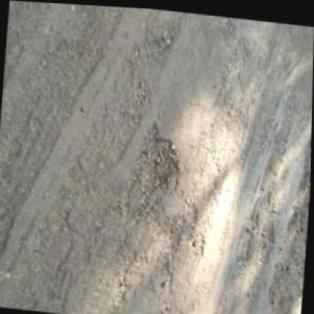Hueco: (130, 118, 183, 196), (241, 208, 260, 252), (260, 214, 277, 255)
